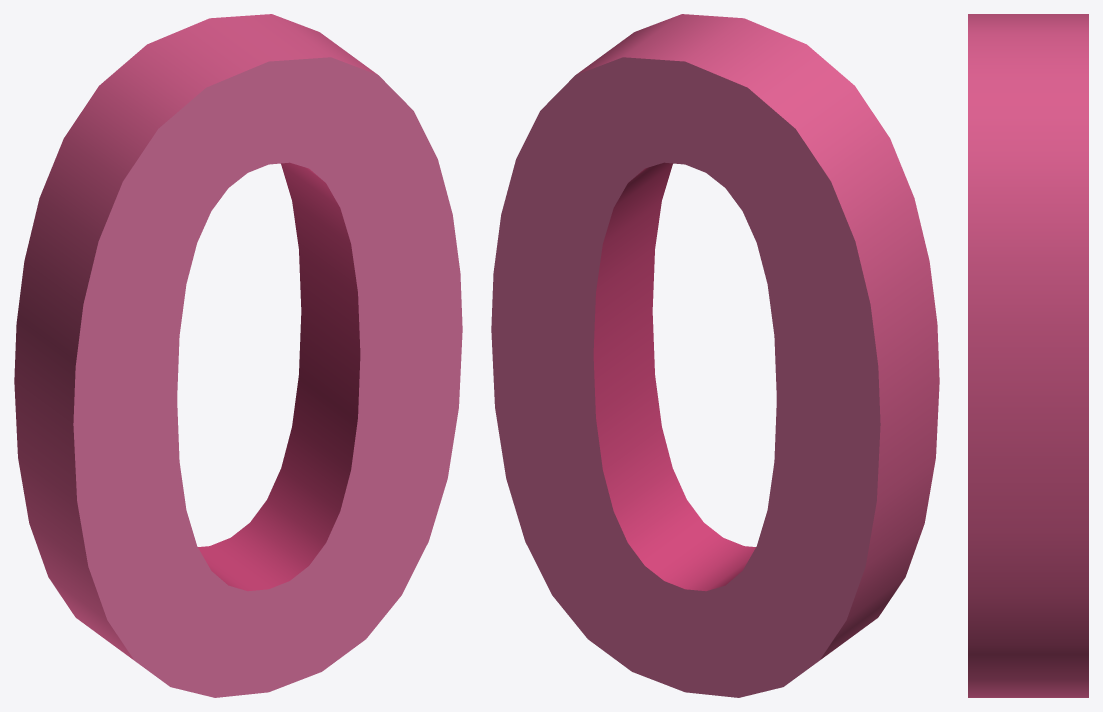
The model's file is number_zero.FBX.
3 views of the same model, side by side, from view 1: azimuth 30°, elevation 25°; view 2: azimuth 150°, elevation 25°; view 3: azimuth 270°, elevation 25° (orthographic). The views are drawn at different scales.
Parts seen in each view (by area): view 1: number_zero; view 2: number_zero; view 3: number_zero.
Part boxes in pixels (bbox=[...]): number_zero: bbox=[14, 14, 462, 697]; number_zero: bbox=[491, 14, 939, 697]; number_zero: bbox=[968, 14, 1088, 697].
Bounding box in the file's own units: 25.67 × 39.75 × 6.75.
